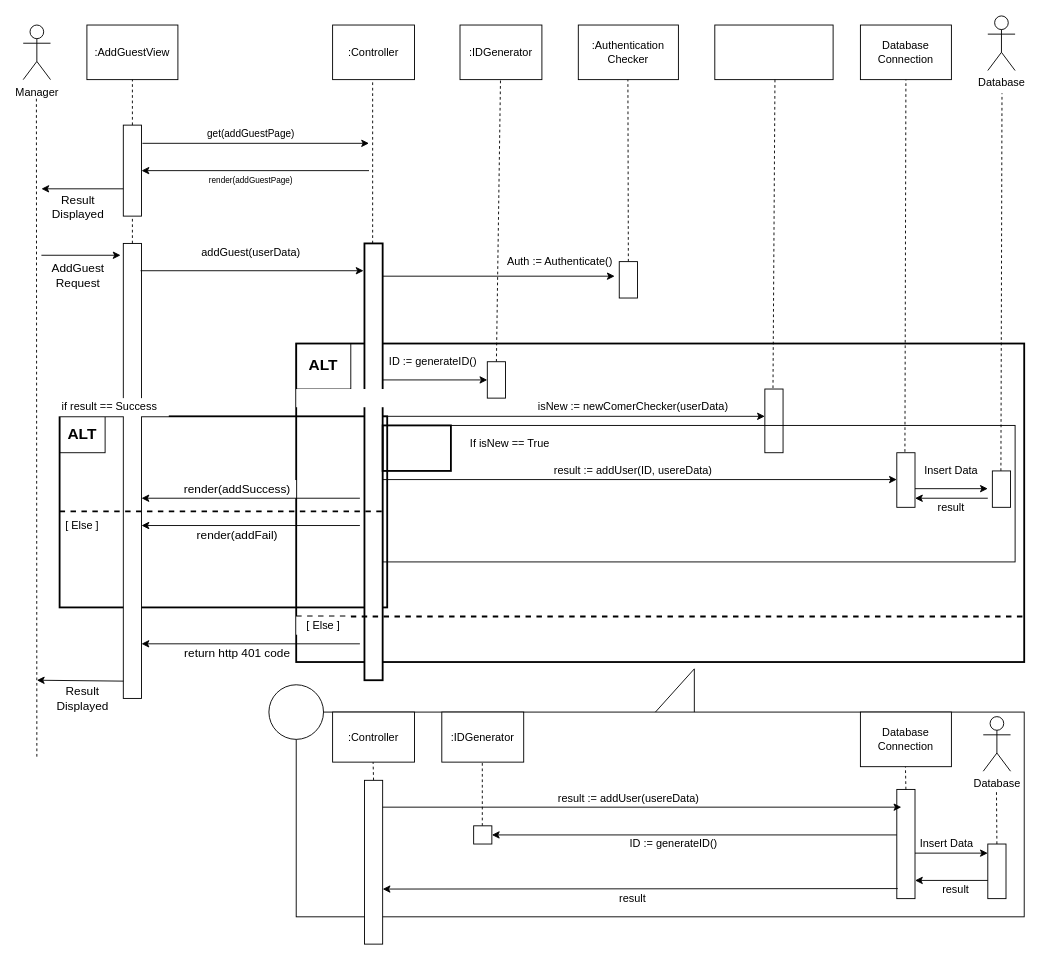
Image size: 1042x960. Some labels were removed from this diagram. Here are the shapes that lost their labels. From the top down, the box of each, then its label:
(714, 24, 833, 80): :newComerChecker
(296, 389, 387, 407): if Auth == True
(381, 424, 451, 471): OPT
(268, 684, 324, 739): V1
